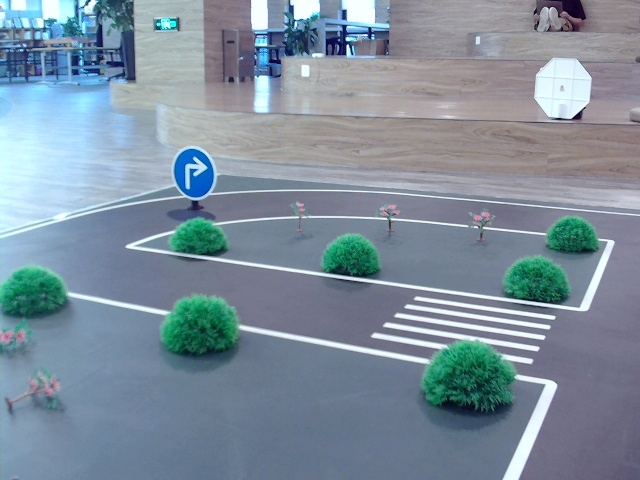turn_right: (179, 155, 207, 188)
